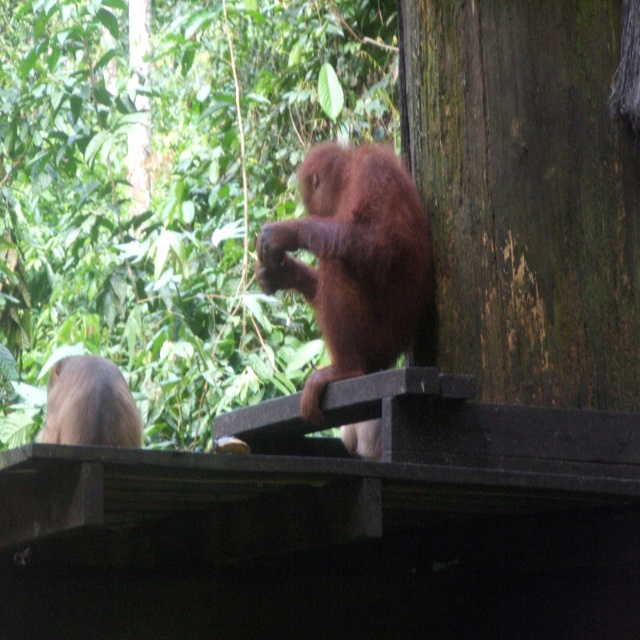Monkey: (245, 125, 434, 435), (36, 354, 146, 452)
